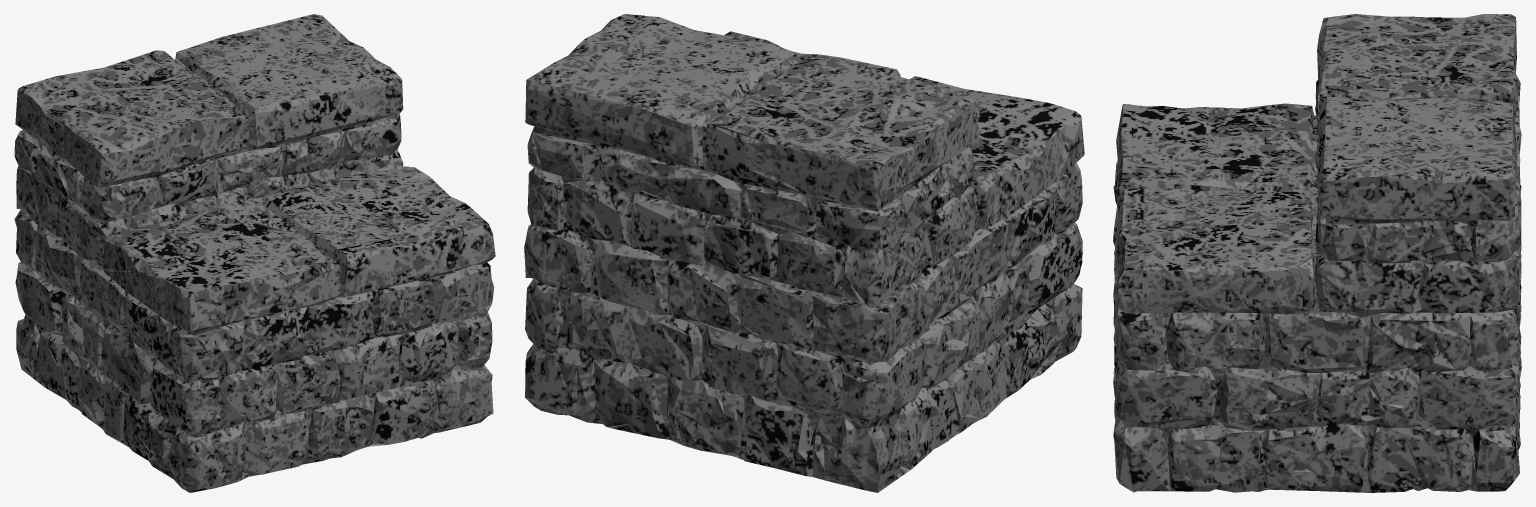
Rendered from rough_stone_stairs_high.fbx.
The picture shows the model from 3 angles, left to right: view 1: azimuth 30°, elevation 25°; view 2: azimuth 150°, elevation 25°; view 3: azimuth 270°, elevation 25°; orthographic projection. The views are drawn at different scales.
Parts seen in each view (by area): view 1: Dungeon Stone Stairs.Inch.2X2.High Stairs; view 2: Dungeon Stone Stairs.Inch.2X2.High Stairs; view 3: Dungeon Stone Stairs.Inch.2X2.High Stairs.
Part boxes in pixels (<box>): Dungeon Stone Stairs.Inch.2X2.High Stairs: <box>14,14,495,492</box>; Dungeon Stone Stairs.Inch.2X2.High Stairs: <box>524,14,1084,492</box>; Dungeon Stone Stairs.Inch.2X2.High Stairs: <box>1113,14,1521,492</box>.
Bounding box in the file's own units: 5138 × 4445 × 5145.
Materials: 1 (1 with a texture image).
